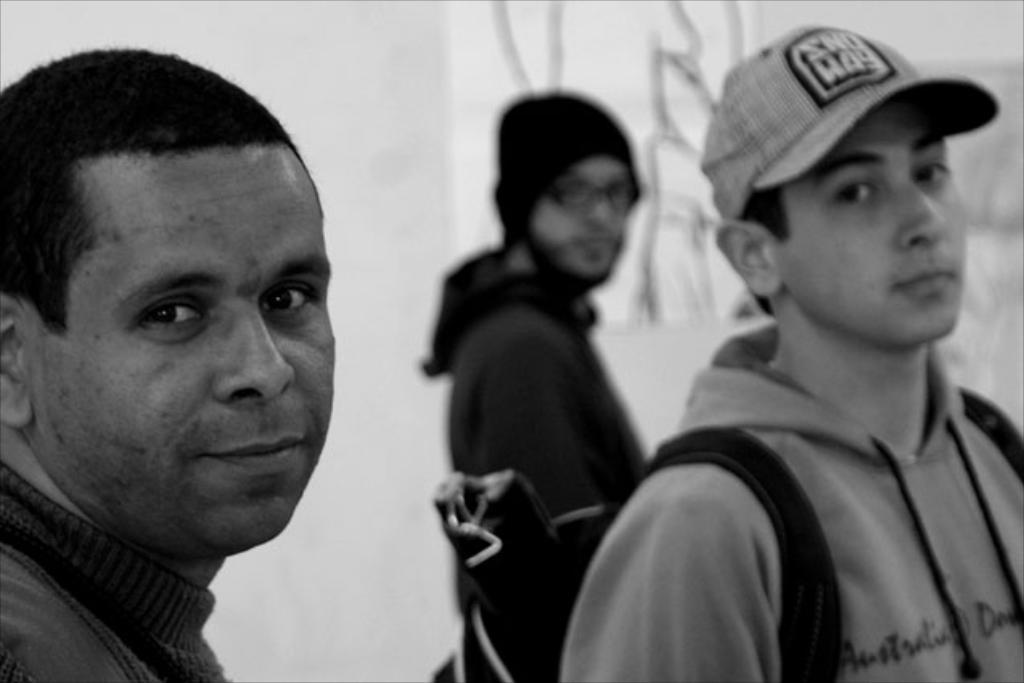Hat: (700, 16, 1002, 223)
